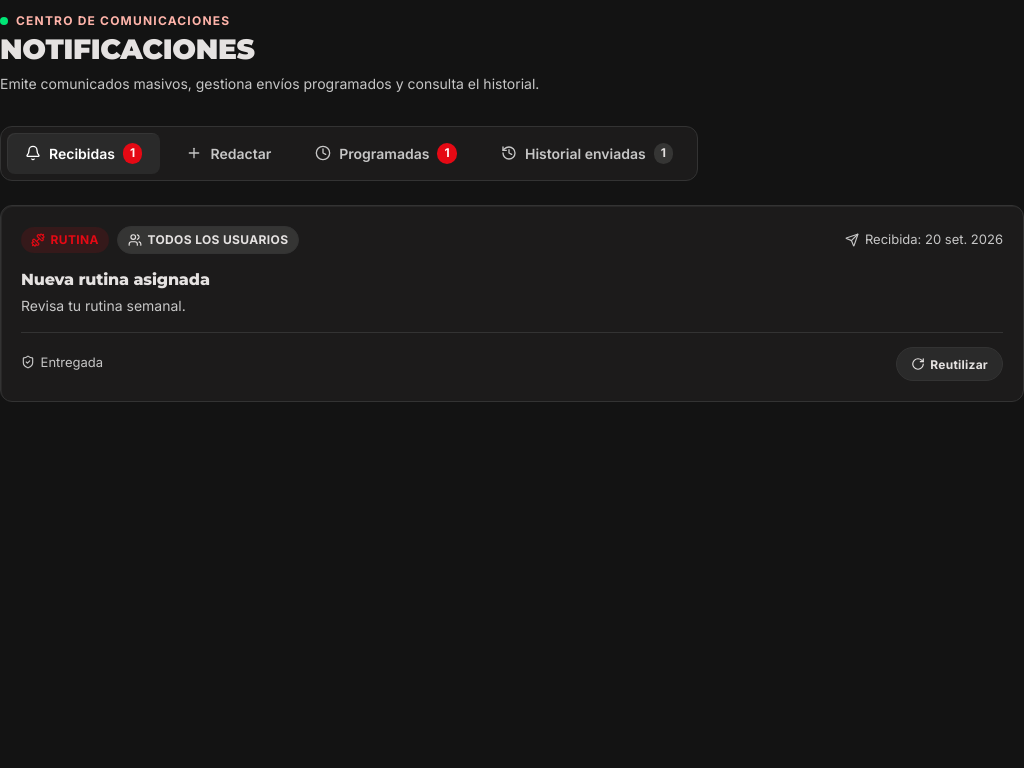
NotificacionesView › busca en el historial tras una pausa y descarta respuestas obsoletas
Click the button with class "notificaciones__tab" showing "Historial enviadas 1" at (587, 153), box top-left (483, 133), bottom-right (691, 174)
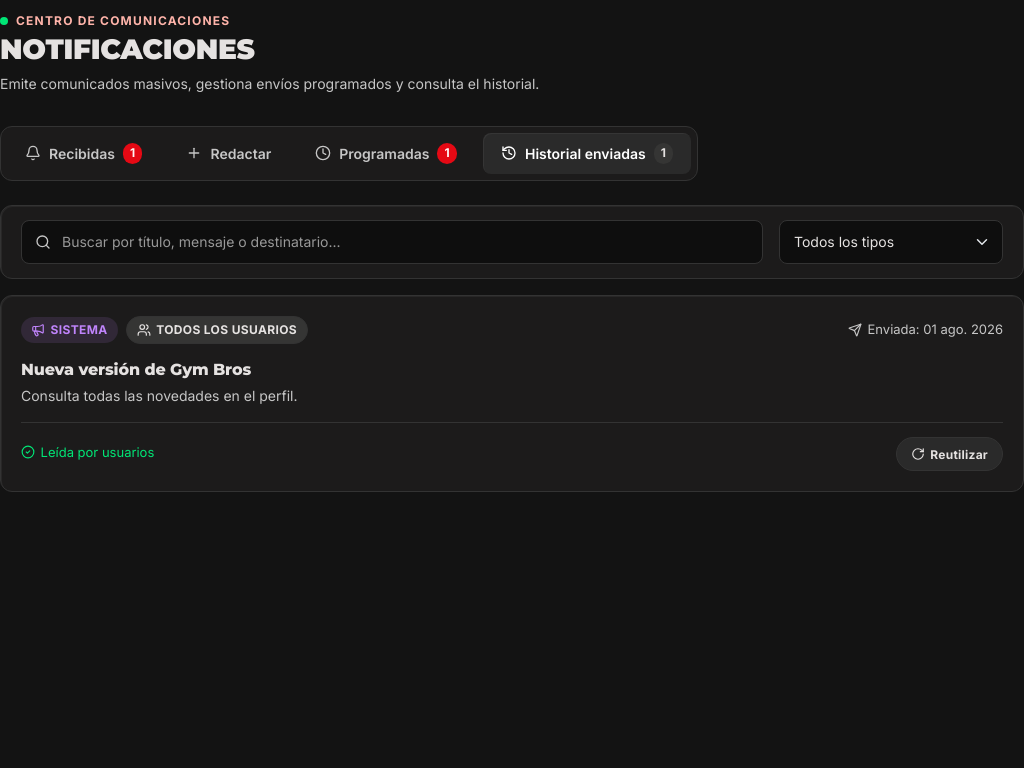
Type "ve" into the search field with id "busqueda-notif" at (392, 242), box top-left (21, 220), bottom-right (763, 264)
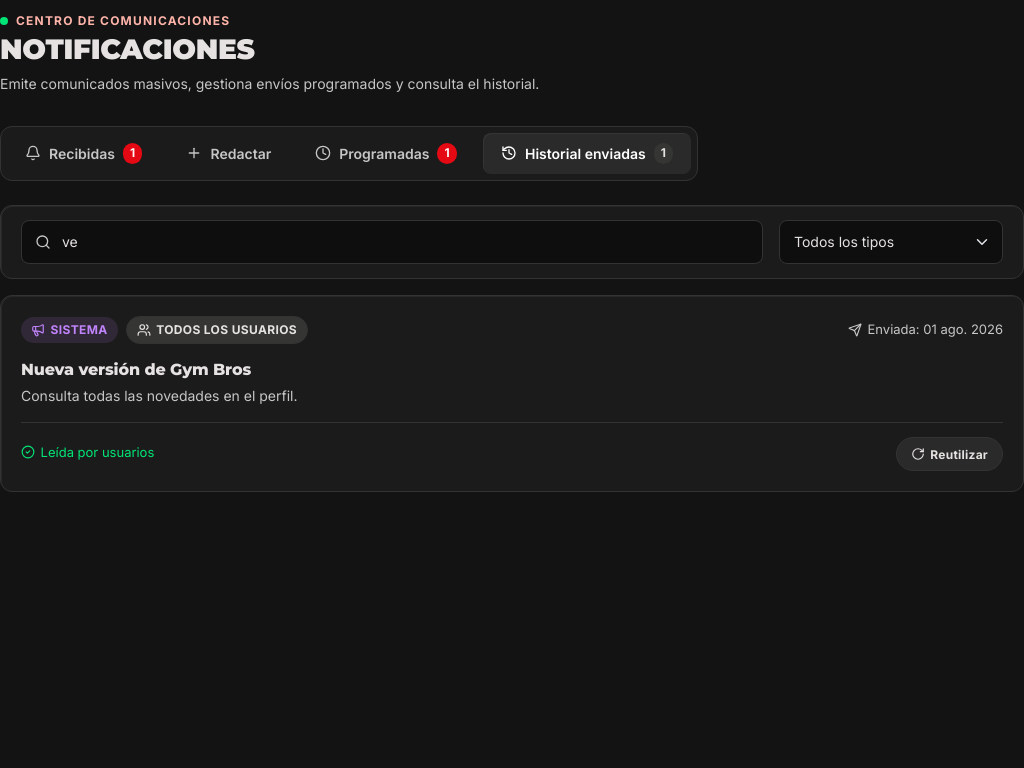
Replace the text in the search field with id "busqueda-notif" with "versión" at (392, 242), box top-left (21, 220), bottom-right (763, 264)
Wait 300 ms
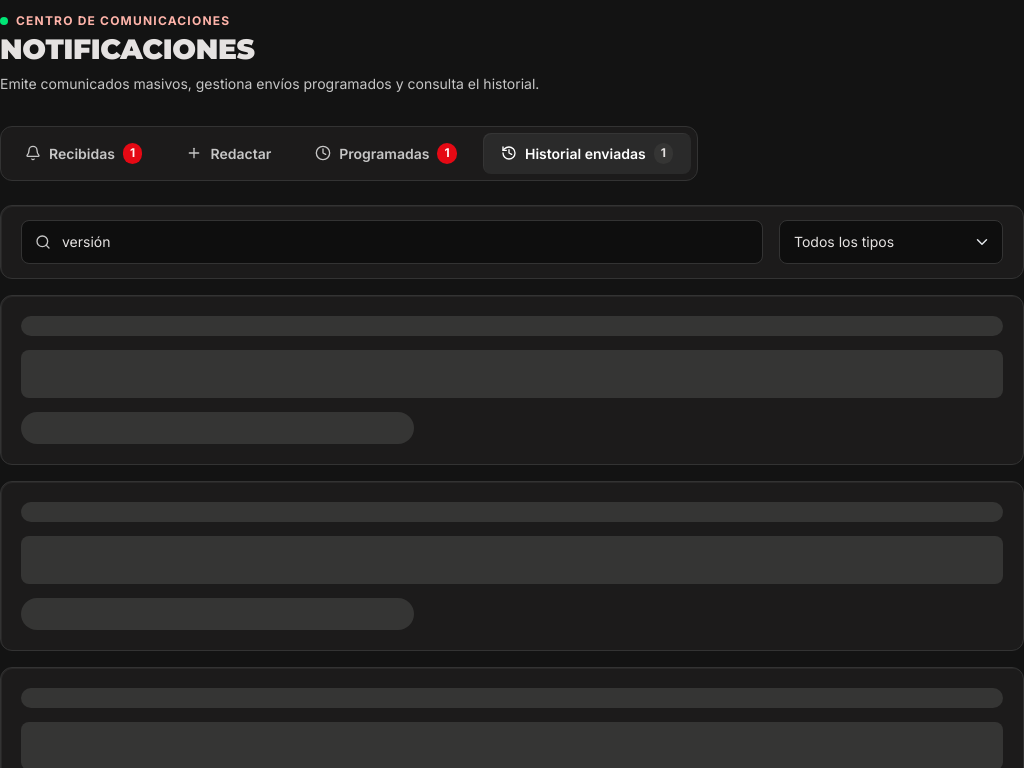
Select "Sistema" in the dropdown with id "filtro-tipo-notif" at (891, 242), box top-left (779, 220), bottom-right (1003, 264)
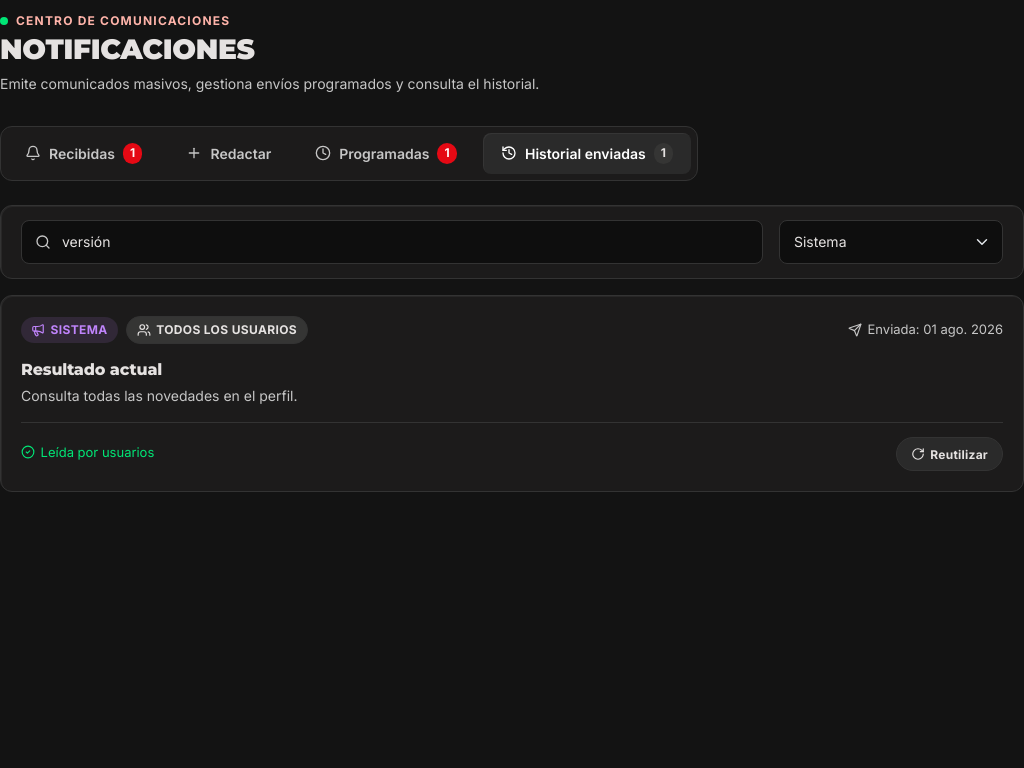
Expected: the text "Resultado actual" is shown, top-left (21, 360), bottom-right (162, 379)
